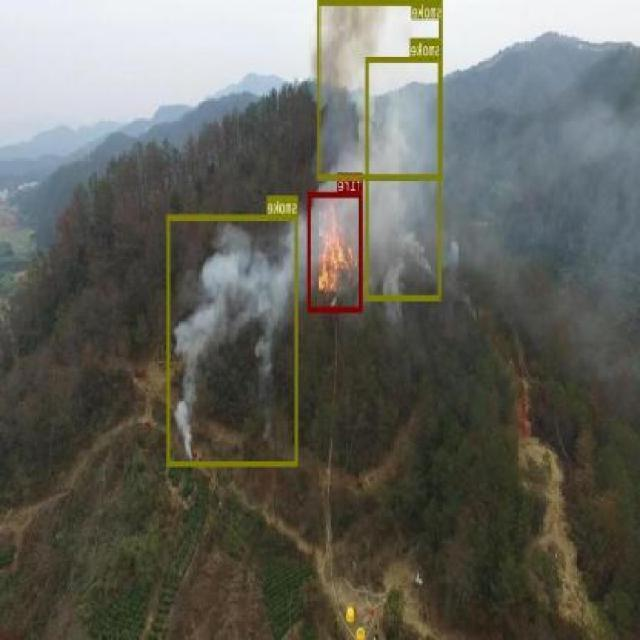Fire: (307, 192, 363, 312)
Smoke: (168, 212, 298, 466), (366, 56, 442, 299)
